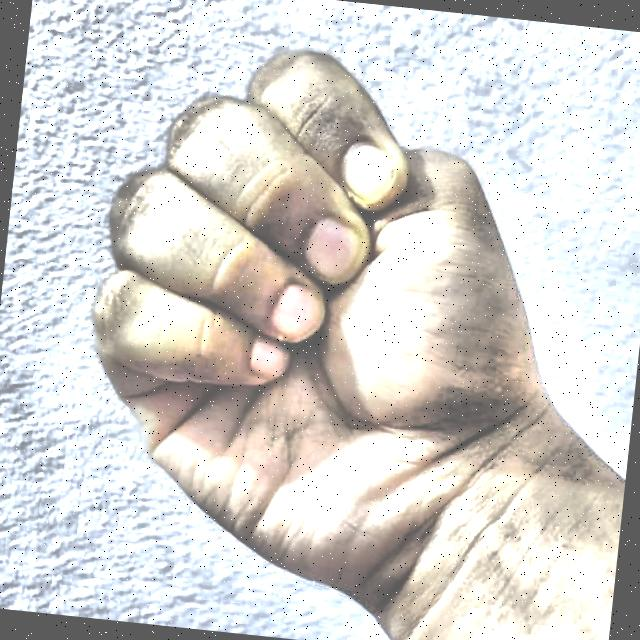To: (34, 11, 592, 640)
